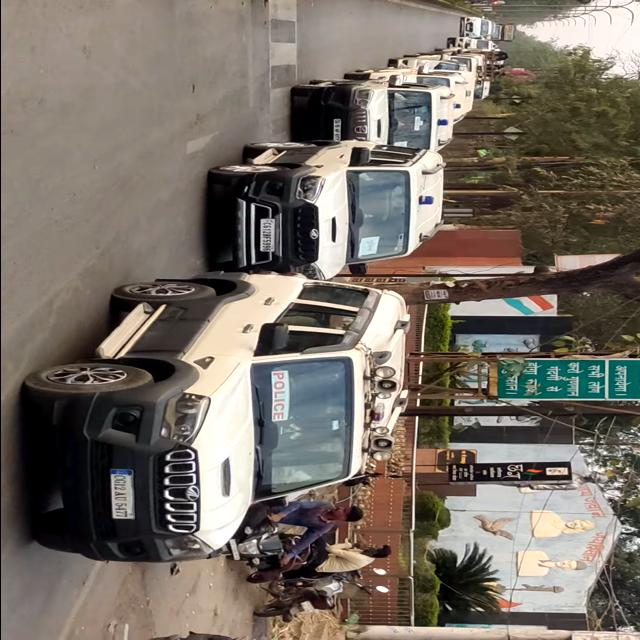emergency-vehicles: (16, 264, 436, 576), (193, 146, 462, 280), (277, 78, 465, 158)
